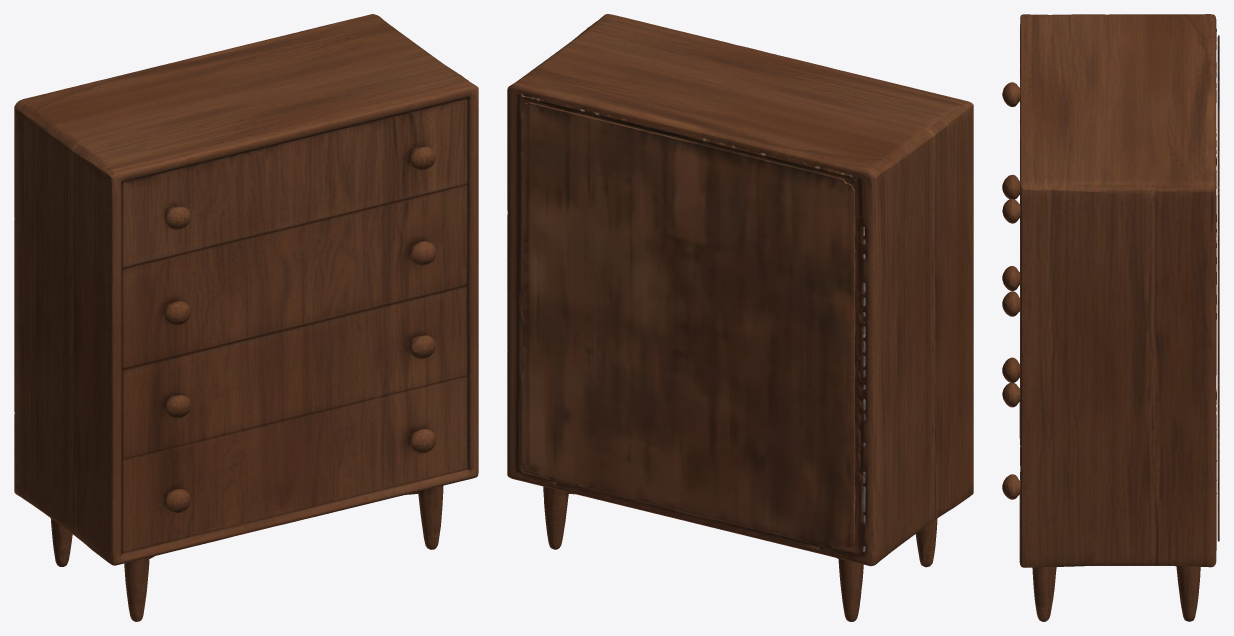
The model's file is L_DRAWERS.glb.
The picture shows the model from 3 angles, left to right: view 1: azimuth 30°, elevation 25°; view 2: azimuth 150°, elevation 25°; view 3: azimuth 270°, elevation 25°; orthographic projection. The views are drawn at different scales.
Visible parts, largest first — view 1: world; view 2: world; view 3: world.
Boxes of the visible parts, <box> form: world: <box>14,14,478,621</box>; world: <box>507,14,973,621</box>; world: <box>1002,14,1219,621</box>.
Bounding box in the file's own units: 0.8709 × 1.05 × 0.4574.
1 material, 1 textured.
